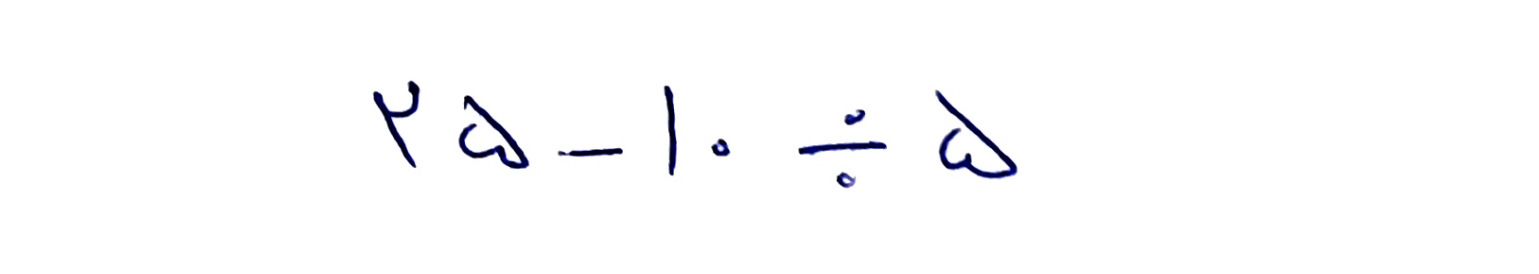character: (934, 87, 1019, 184), (796, 109, 883, 187), (457, 92, 529, 168), (372, 77, 421, 169), (661, 82, 679, 178), (557, 145, 625, 156), (710, 136, 733, 156)
